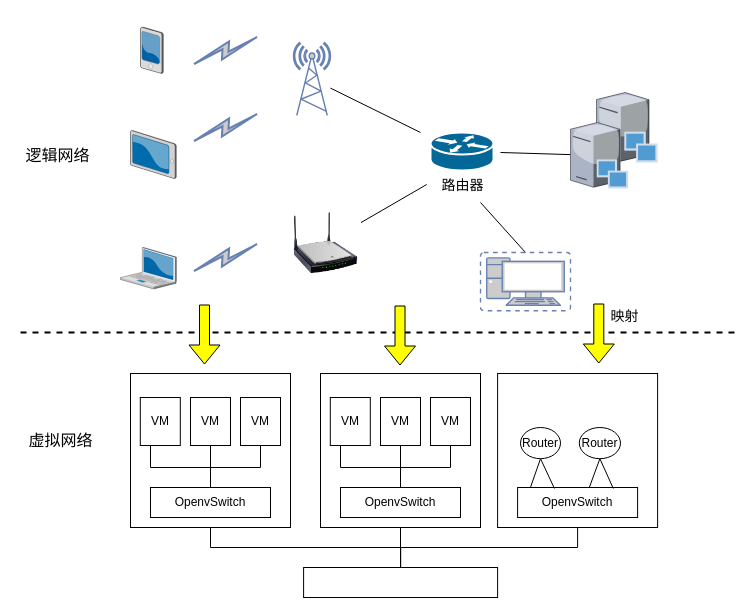
The diagram is 753 pixels wide and 615 high, and some of its shapes have lost their labels. The shapes that lost their labels are listed below. From the top down, each one's box as (x1, y1, x2, y2) in pixels, then its label:
(140, 27, 163, 73): 智能手机
(292, 41, 331, 116): 蜂窝基站
(570, 122, 628, 188): 固定终端
(290, 212, 360, 273): 无线接入点
(120, 247, 176, 288): 笔记本
(303, 566, 498, 598): Physical Switch
